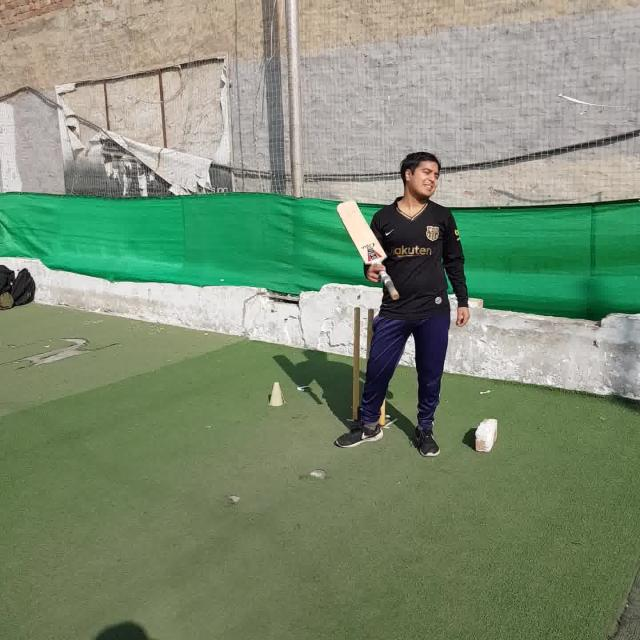bat: (336, 200, 399, 300)
